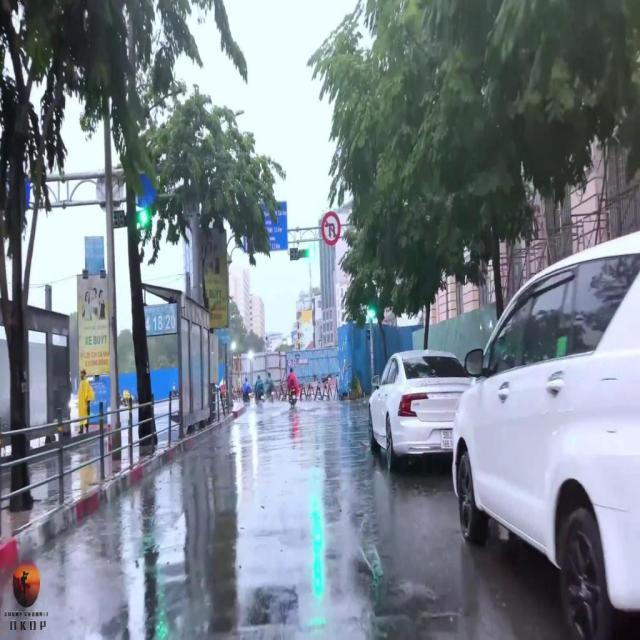khac: (321, 212, 340, 246)
